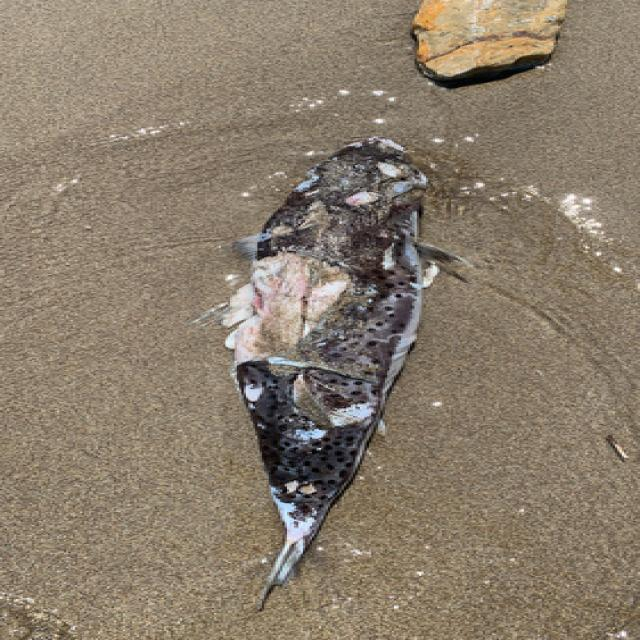Balik: (219, 139, 460, 607)
